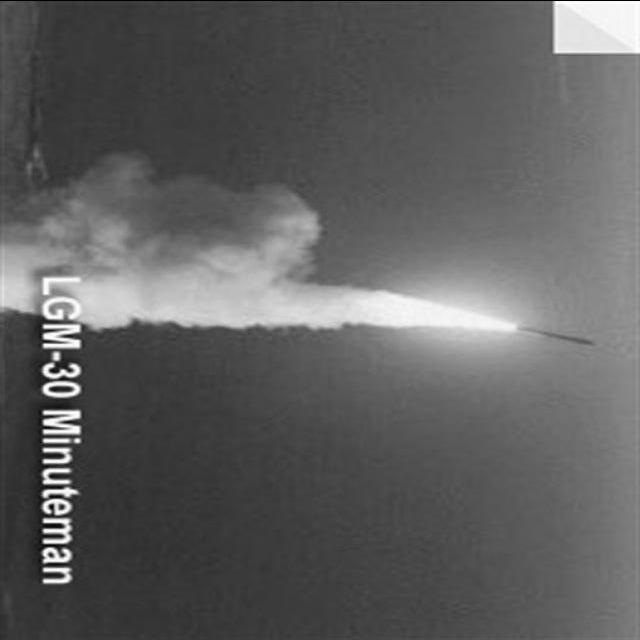Missile: (509, 318, 612, 351)
